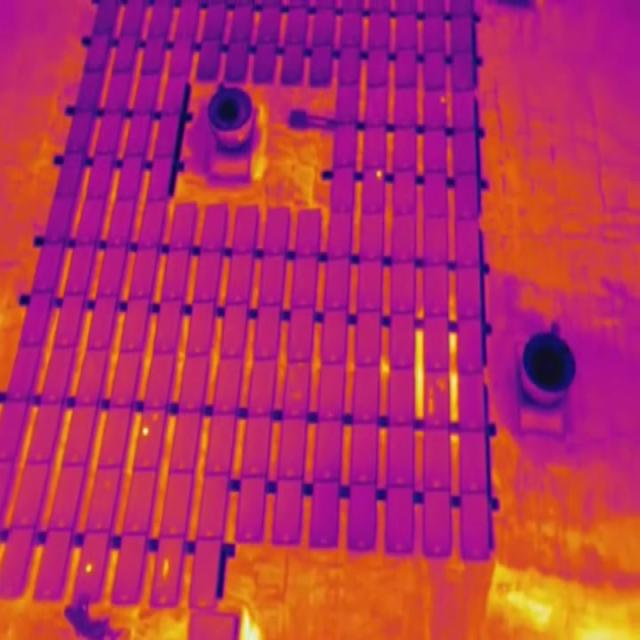Orange-Spots: (428, 387, 434, 415), (162, 558, 168, 578), (439, 378, 447, 392), (85, 563, 93, 573), (375, 170, 382, 180), (143, 426, 149, 437), (440, 96, 447, 104)
